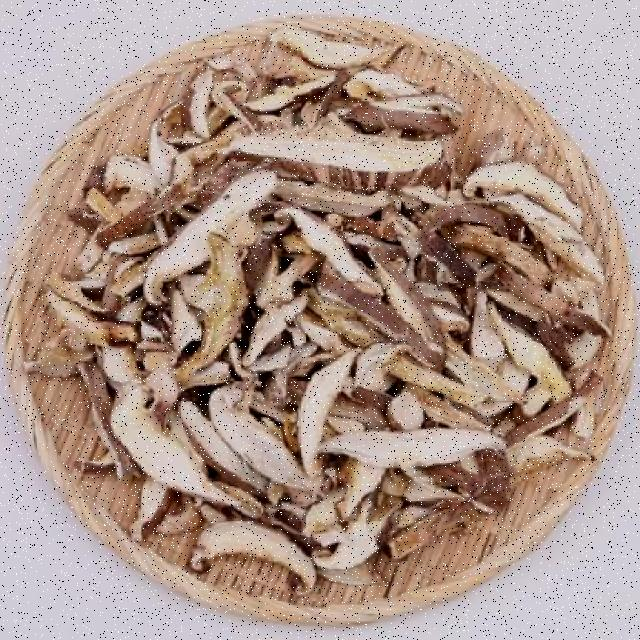Mushroom: (218, 101, 457, 204), (306, 410, 512, 490)
